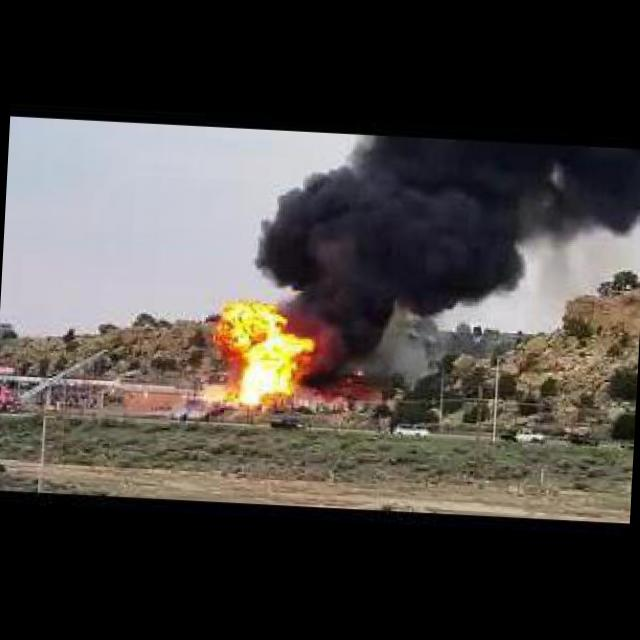fire: (187, 277, 321, 419)
smoke: (233, 130, 640, 375)
